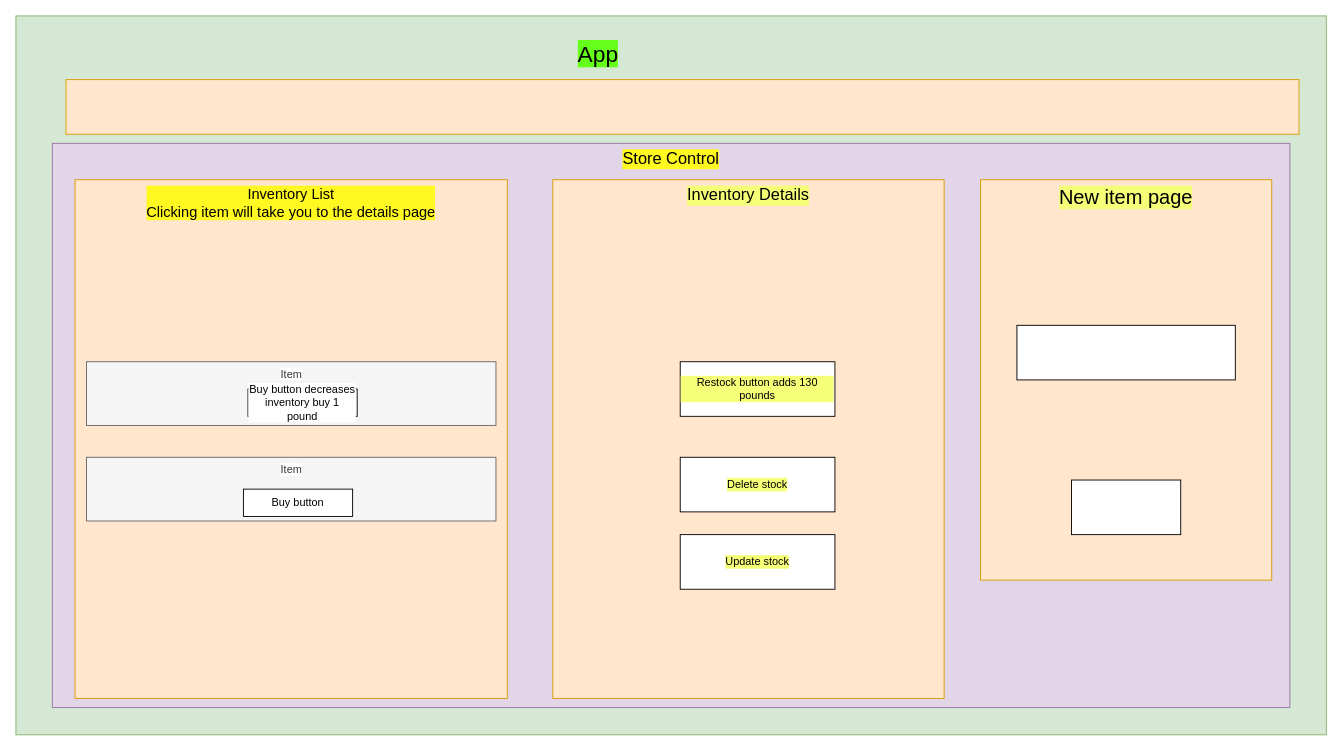
The diagram is 1342 pixels wide and 751 high, and some of its shapes have lost their labels. The shapes that lost their labels are listed below. From the top down, each one's centre as x and y in pixels, then its label:
the point at 682,106: Header
the point at 1125,352: form
the point at 1126,507: submit button
